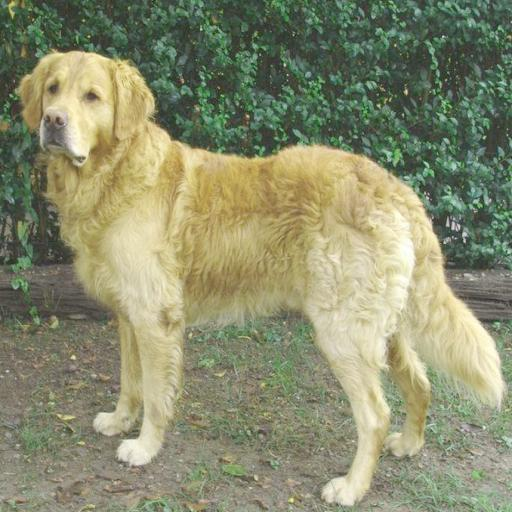dog_face: (22, 47, 150, 174)
